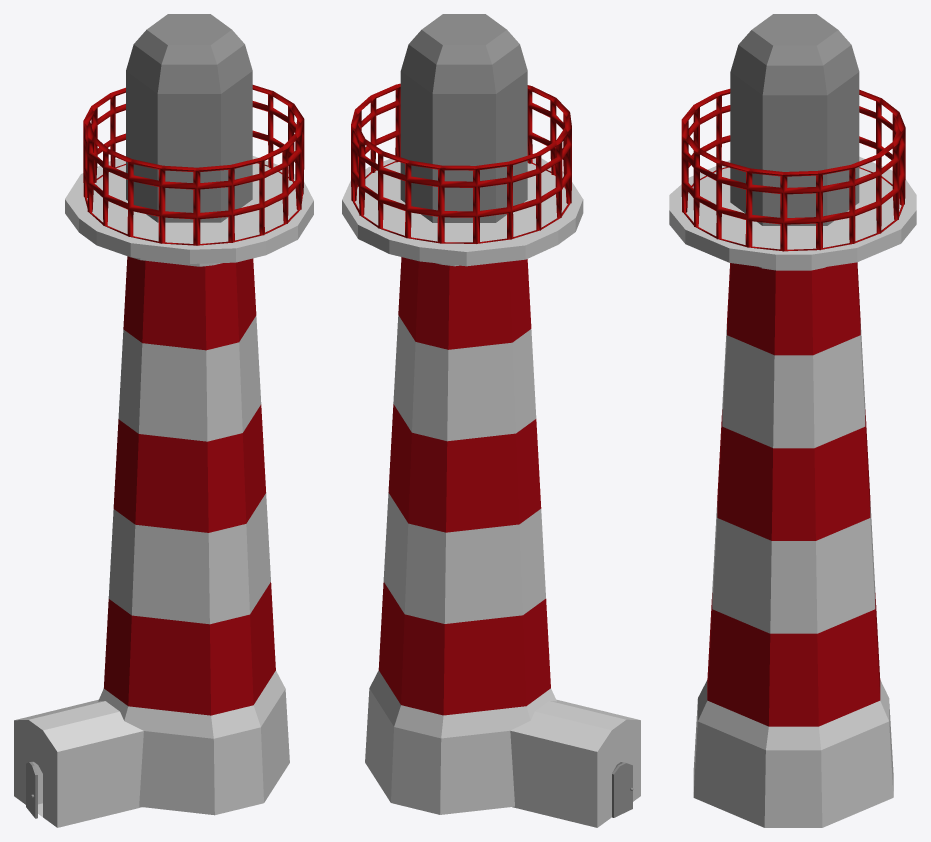
File: lighthouse.fbx
3 renders of one model, left to right at view 1: azimuth 30°, elevation 25°; view 2: azimuth 150°, elevation 25°; view 3: azimuth 270°, elevation 25°, orthographic.
Parts seen in each view (by area): view 1: Cube; view 2: Cube; view 3: Cube.
Part boxes in pixels (bbox=[...]): Cube: bbox=[14, 14, 313, 827]; Cube: bbox=[342, 14, 640, 827]; Cube: bbox=[669, 14, 916, 827].
Size of the model in its own units: 715 by 1894 by 561.
